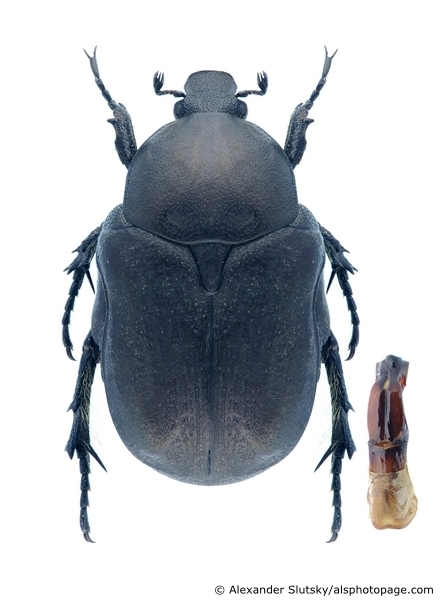Protaetia_vidua: (32, 29, 380, 552)
